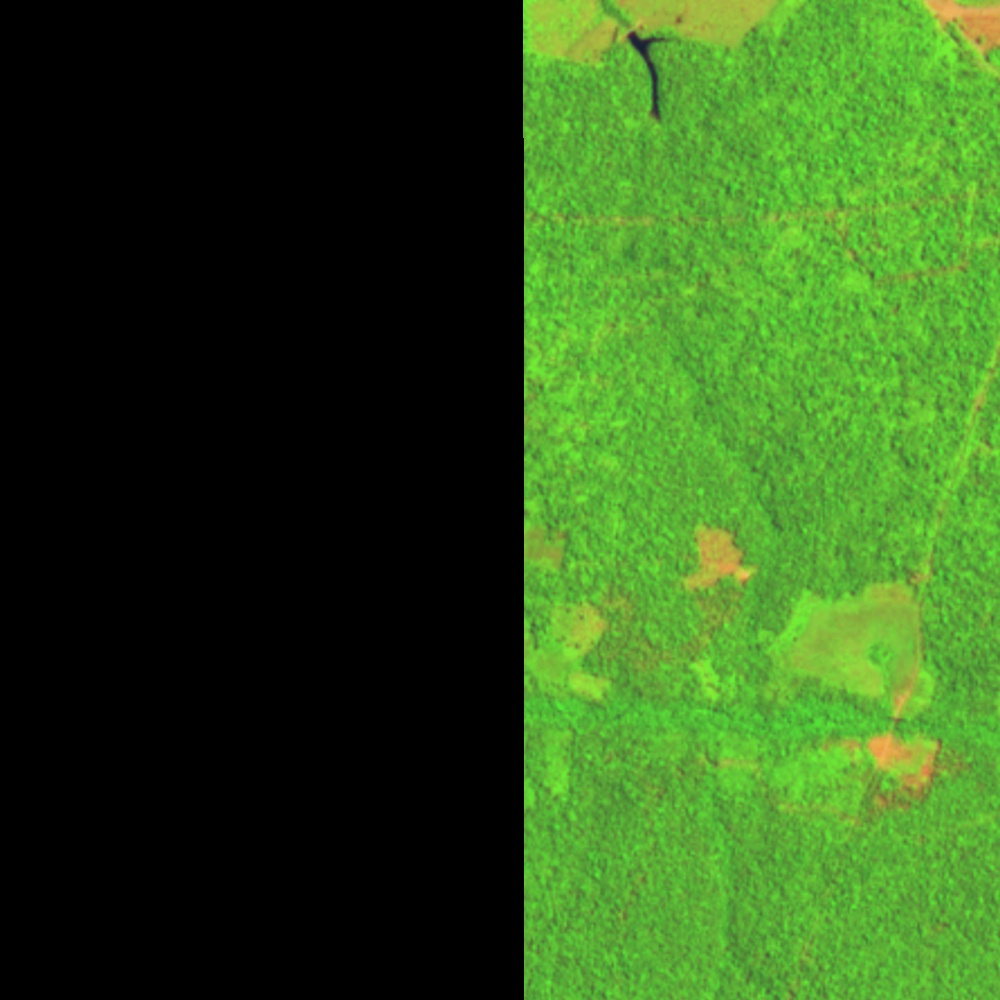legal: (788, 574, 930, 718), (533, 1, 790, 63), (816, 734, 952, 815), (686, 519, 757, 596)
